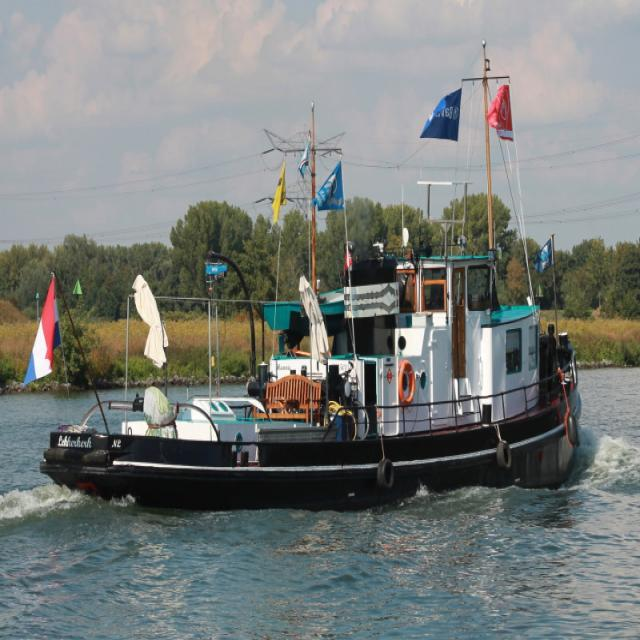tugboat: (37, 36, 593, 526)
